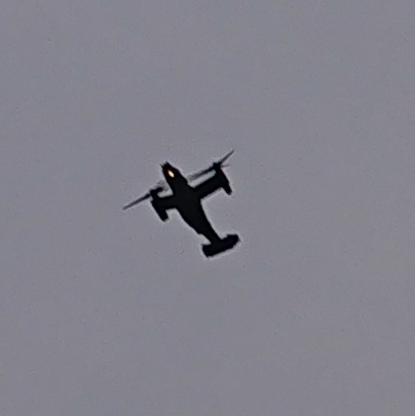Tornado: (122, 148, 241, 258)
